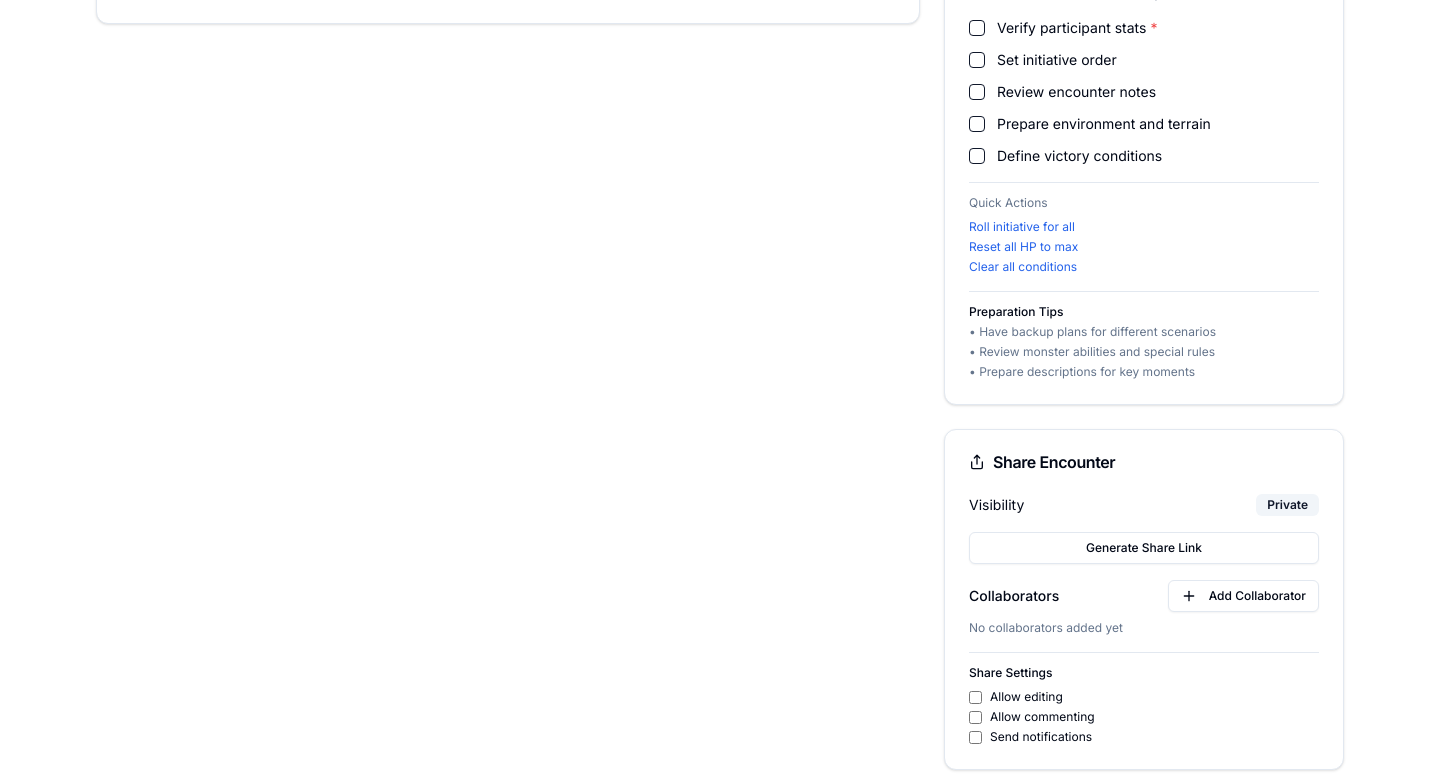
it: EncounterDetailClient › Sharing and Collaboration › should allow adding collaborators
(page scrolled)
What coordinates should you click on to do the following:
click the button "Add Collaborator"
I would click on:
 (1243, 596)
Its box is [1168,580,1319,612].
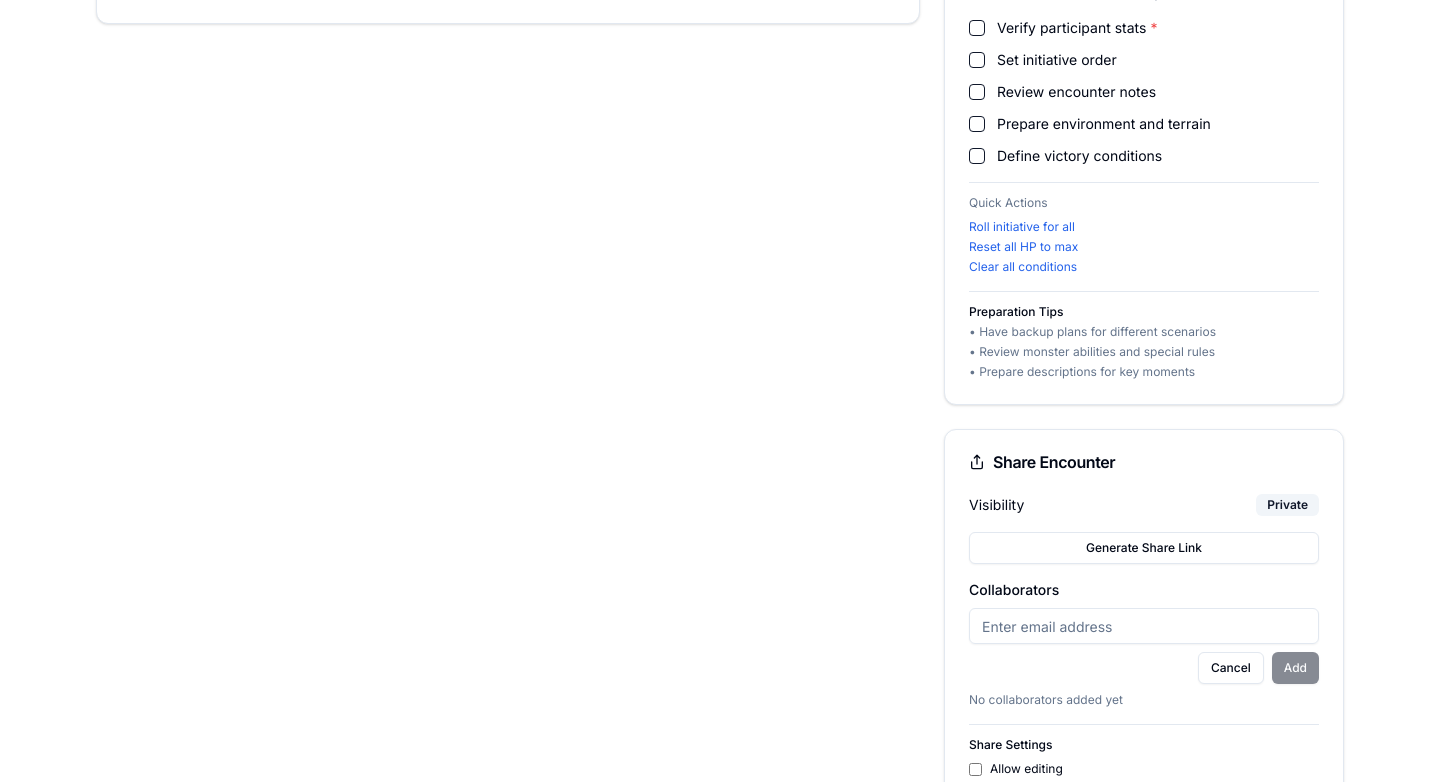
Now the field with placeholder "Enter email address" is shown, box [969,608,1319,644]
